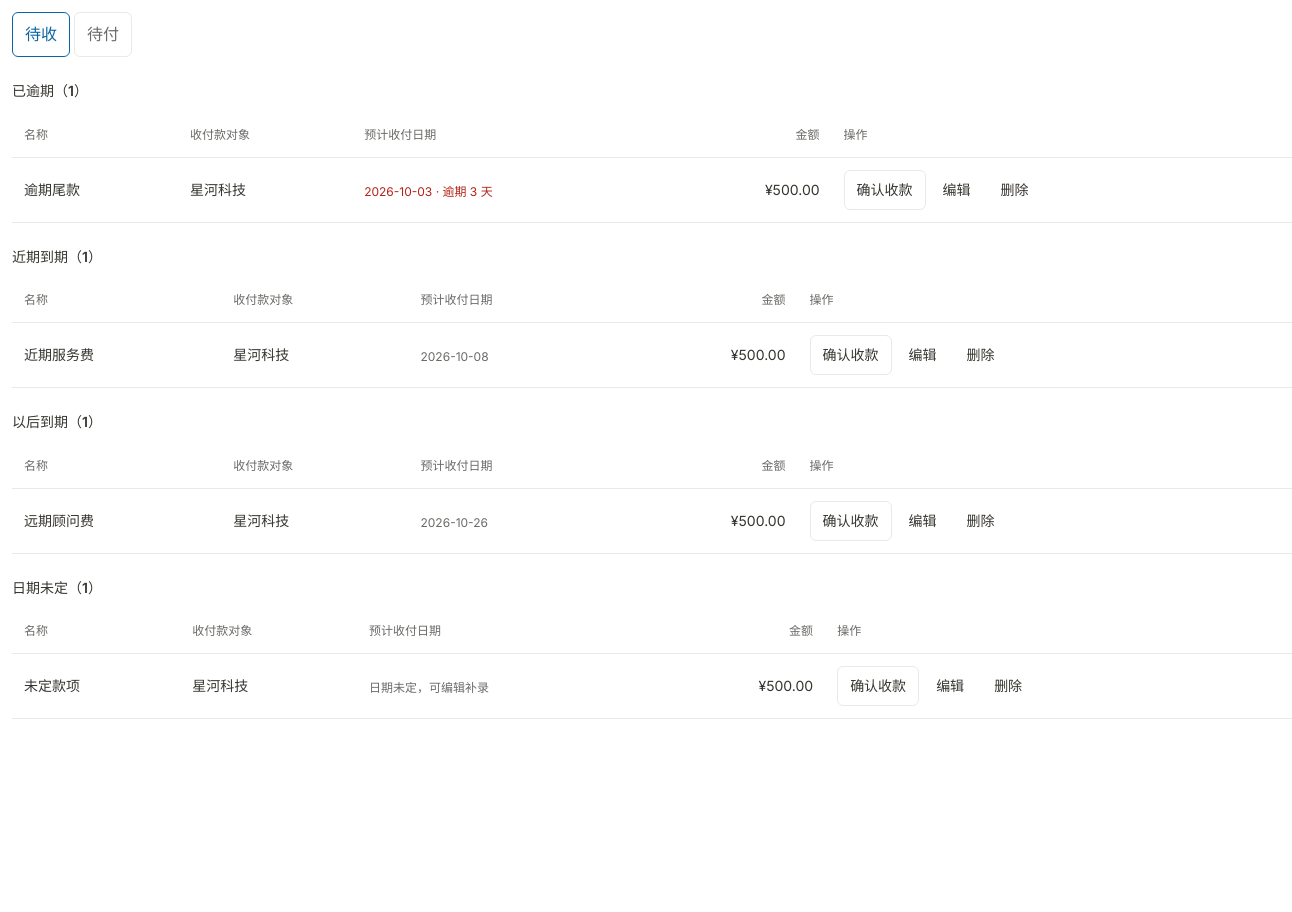
it: FinancePendingPage › 切换待付后请求应付记录
This screenshot has width=1292, height=912.
Check: the element "已逾期" is shown, box x1=12 y1=81 x2=1291 y2=223
Click the button "待付" at point(103, 35), box x1=74 y1=12 x2=132 y2=57
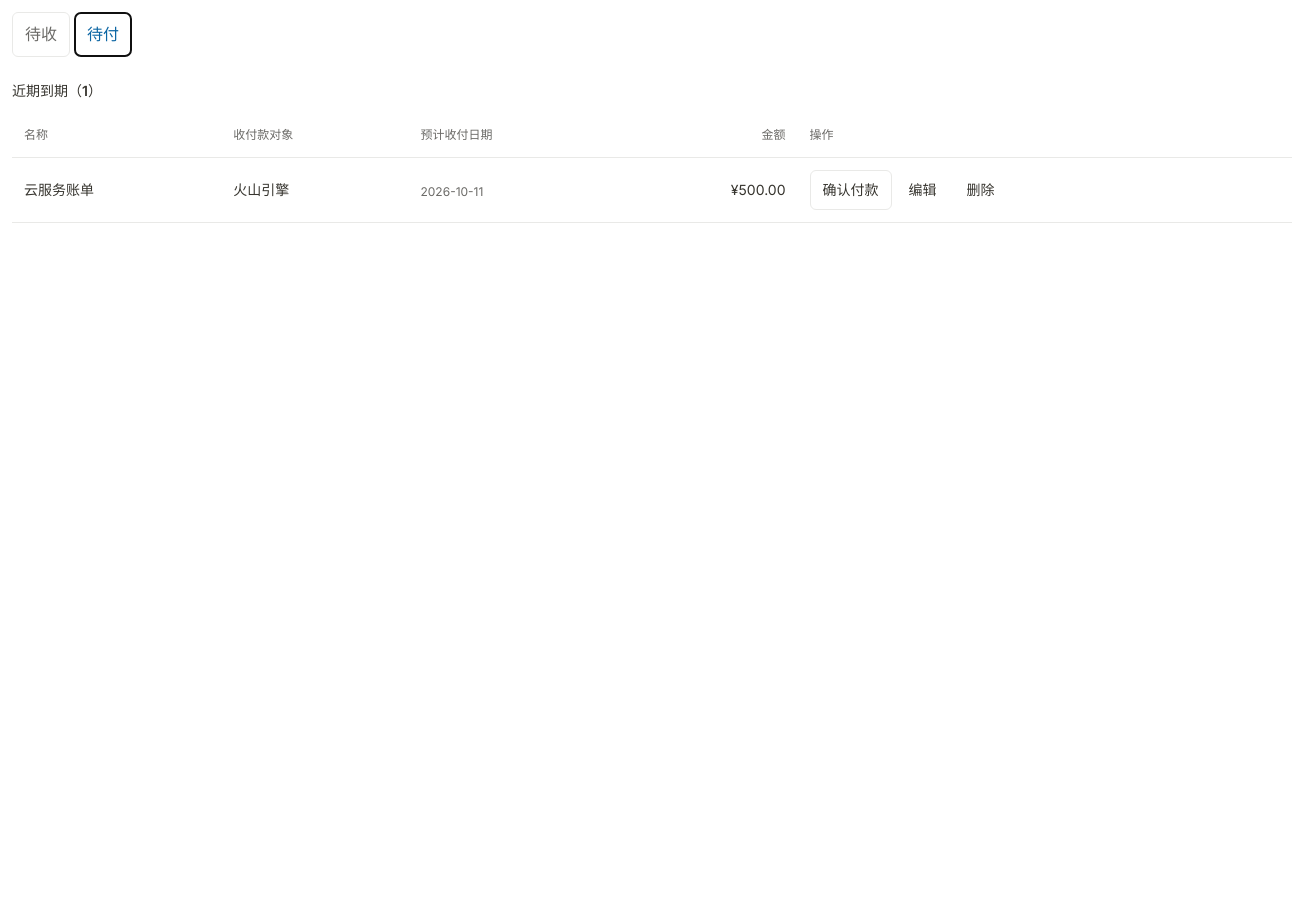
Check: the text "逾期尾款" is gone
